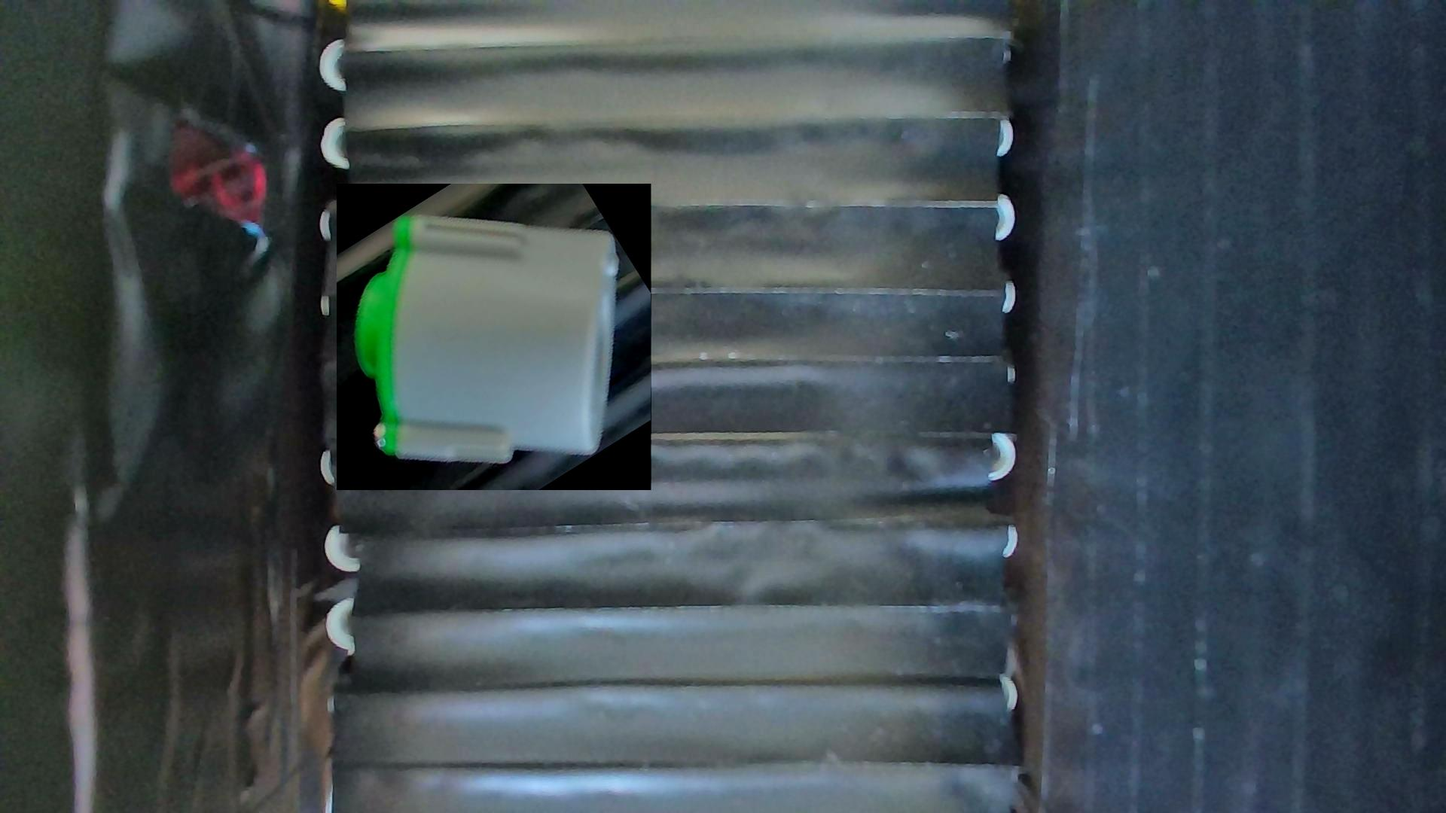cartridge: (337, 184, 652, 490)
